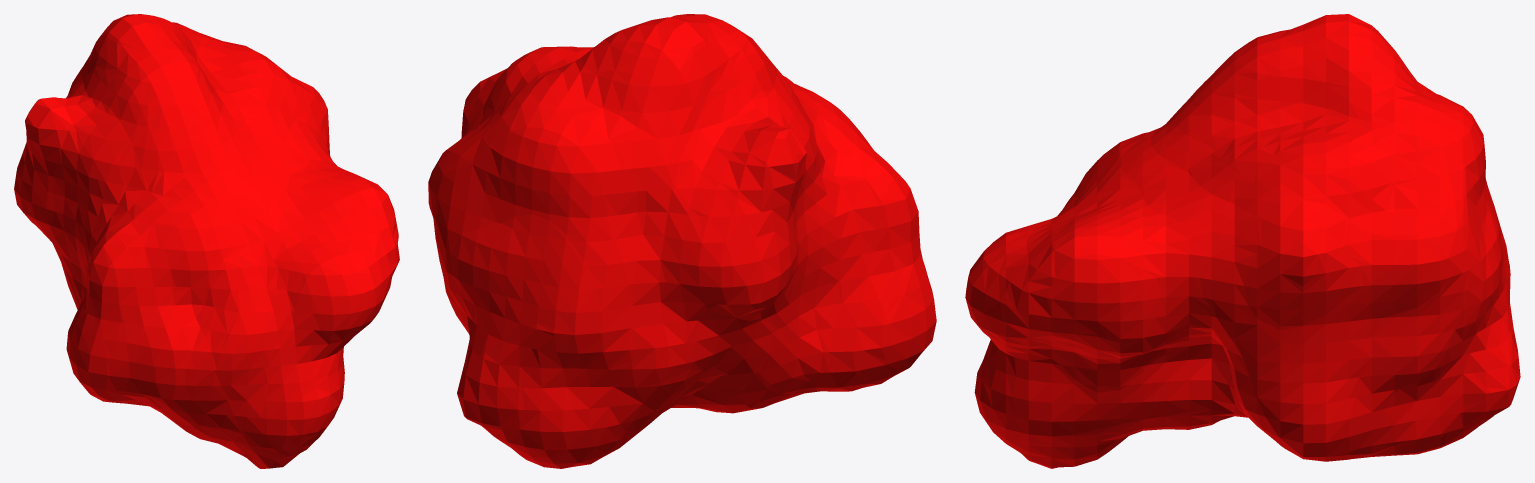
The model's file is srlD_coarse.dae.
3 renders of one model, left to right at view 1: azimuth 30°, elevation 25°; view 2: azimuth 150°, elevation 25°; view 3: azimuth 270°, elevation 25°, orthographic. The views are drawn at different scales.
Visible parts, largest first — view 1: srlD; view 2: srlD; view 3: srlD.
Boxes of the visible parts, x1,y1,x2,y2 form: srlD: (14, 14, 399, 468); srlD: (428, 14, 936, 468); srlD: (965, 14, 1520, 468).
Bounding box in the file's own units: 44.09 × 50.53 × 57.83.
